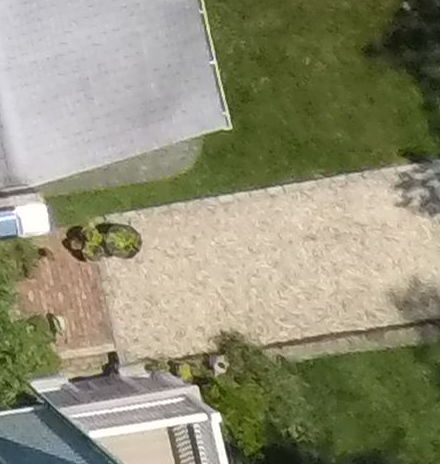container: (1, 201, 26, 245), (205, 351, 230, 376)
flower pot: (102, 220, 143, 260), (77, 241, 106, 266), (78, 224, 103, 244)
